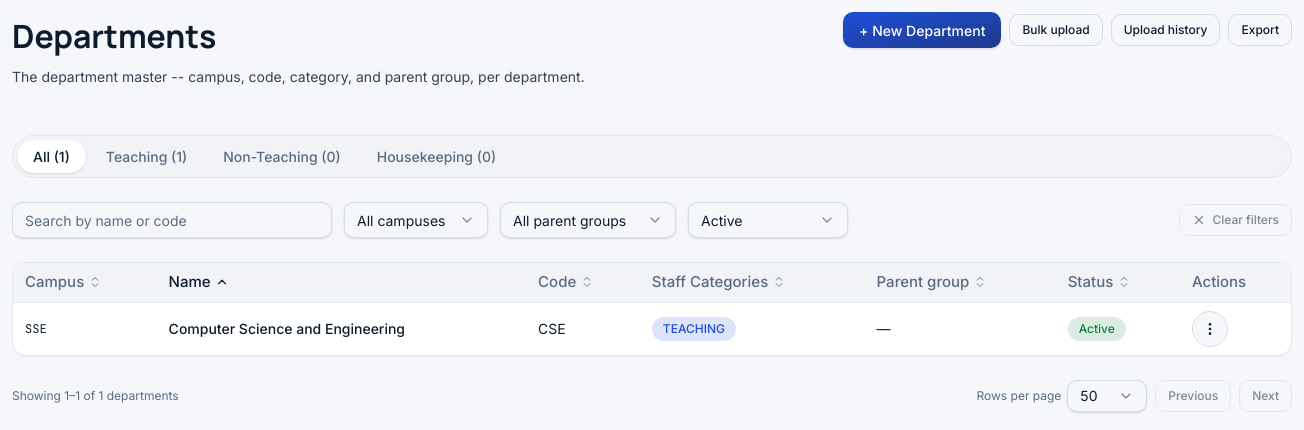
DepartmentsPage › shows a filter-applied indicator and a working Clear filters button once a filter is active
Expected: the text "Computer Science and Engineering" is shown, [157, 302, 526, 354]
Expected: the button "Clear filters" is disabled, [1179, 204, 1292, 236]
Click the dropdown named "Campus filter" at (416, 220), box [344, 202, 488, 238]
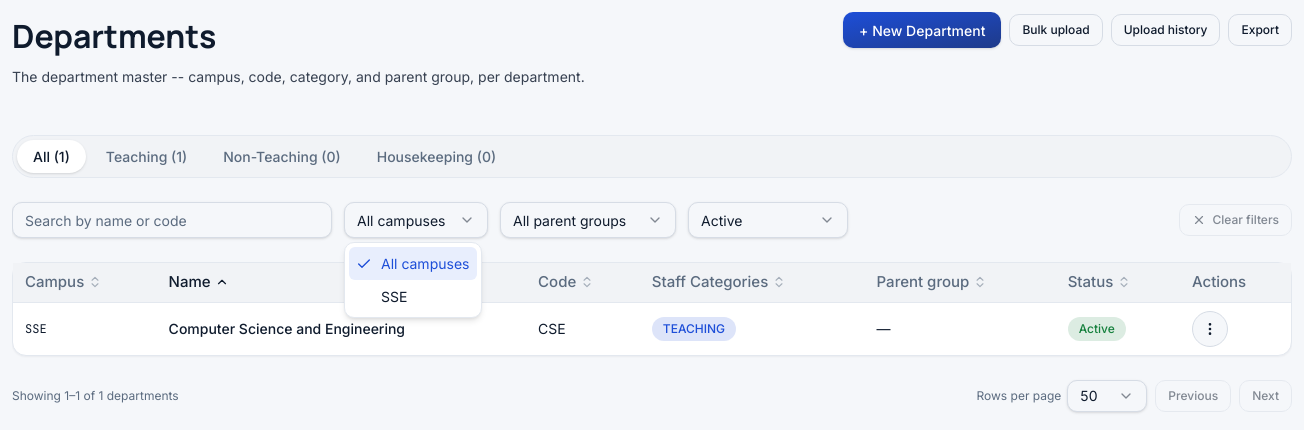
Click the option "SSE" at (394, 296), box [381, 288, 407, 305]
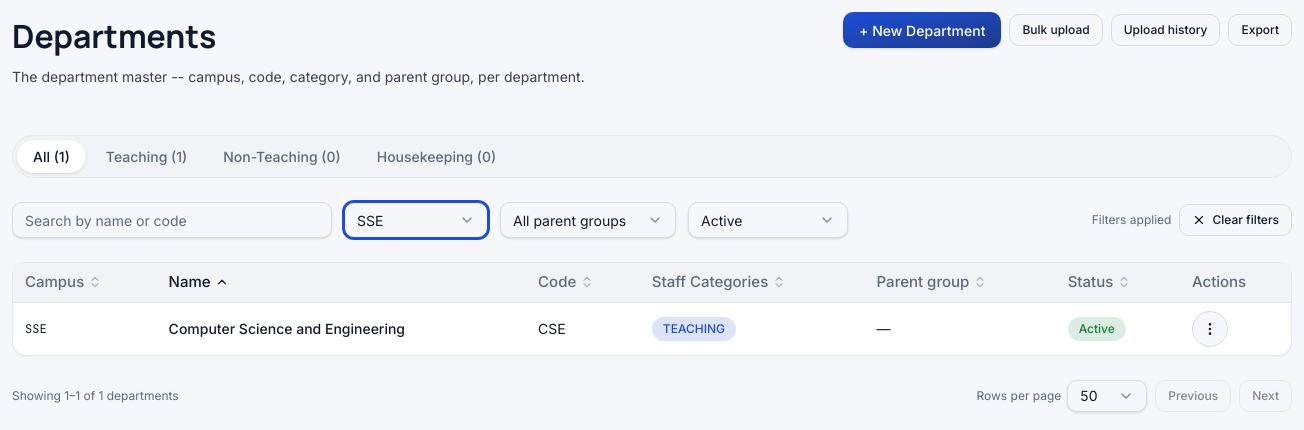
Expected: the text "Filters applied" is shown, [1092, 211, 1171, 229]
Expected: the button "Clear filters" is enabled
Click the button "Clear filters" at (1236, 220), box [1179, 204, 1292, 236]
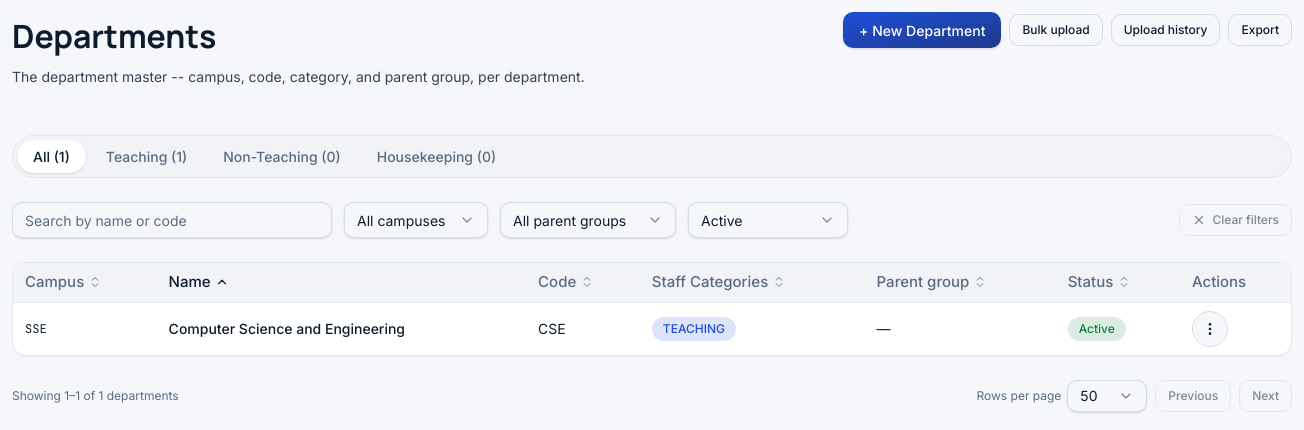
Expected: the text "Filters applied" is gone
